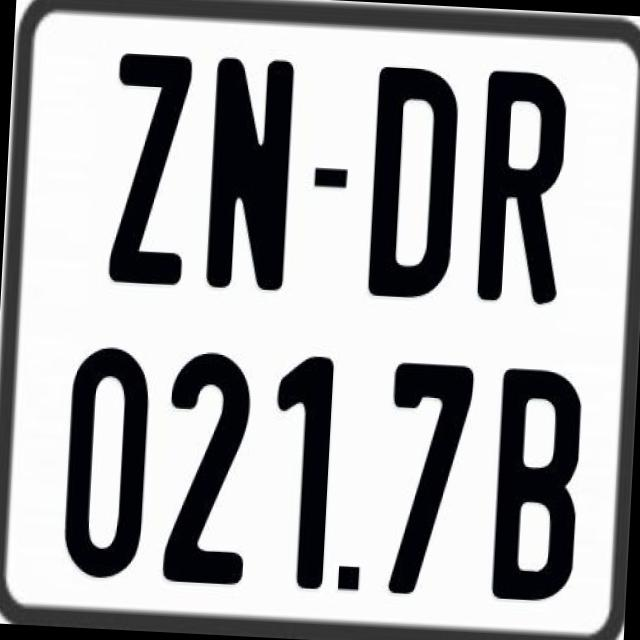0: (59, 342, 154, 586)
1: (266, 355, 338, 593)
2: (160, 351, 252, 590)
7: (382, 361, 477, 598)
B: (488, 367, 586, 610)
D: (368, 64, 462, 298)
N: (205, 52, 299, 296)
R: (476, 68, 574, 312)
Z: (108, 53, 195, 295)
